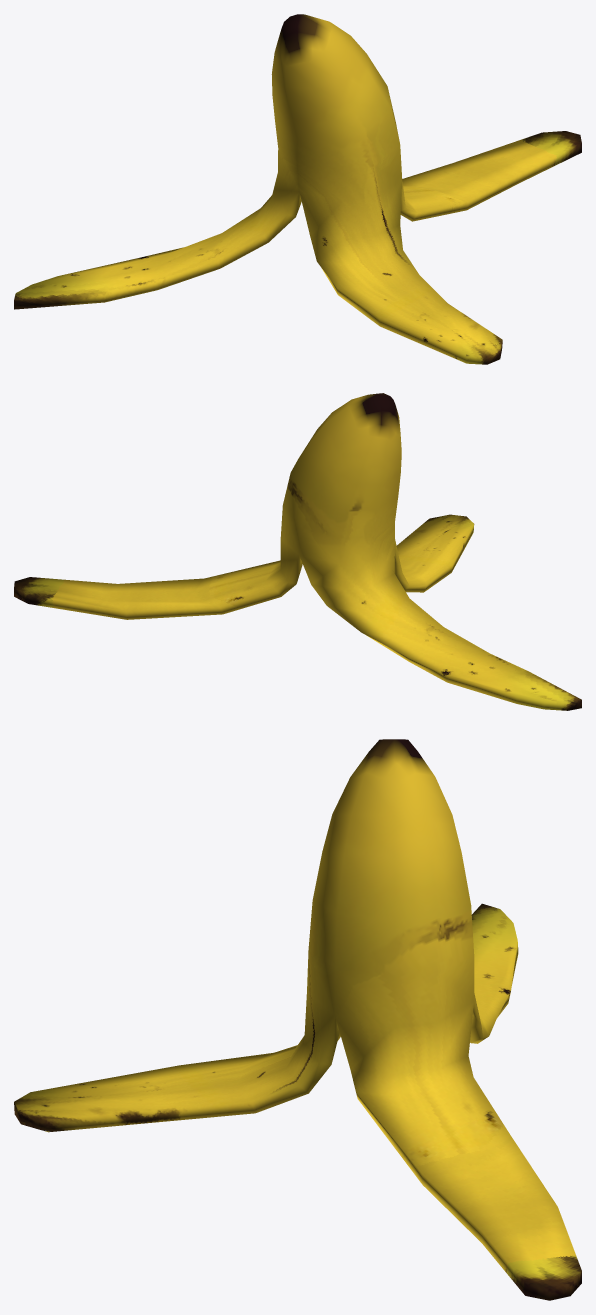
Rendered from BananaPeel.fbx.
The picture shows the model from 3 angles, top to bottom: view 1: azimuth 30°, elevation 25°; view 2: azimuth 150°, elevation 25°; view 3: azimuth 270°, elevation 25°; orthographic projection. The views are drawn at different scales.
Parts seen in each view (by area): view 1: BananaPeel; view 2: BananaPeel; view 3: BananaPeel.
Boxes of the visible parts, left/top/right/bottom form: BananaPeel: left=14, top=14, right=581, bottom=364; BananaPeel: left=14, top=393, right=581, bottom=710; BananaPeel: left=14, top=739, right=581, bottom=1300.
Size of the model in its own units: 125 by 51.88 by 77.24.
